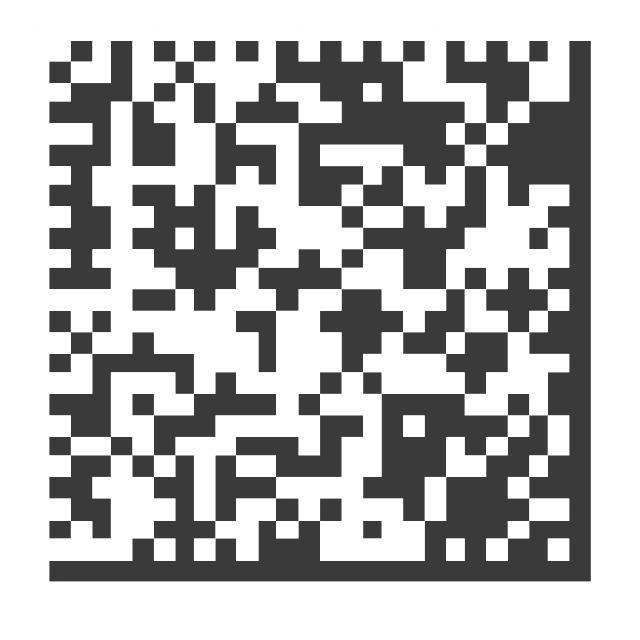Data-Matrix: (37, 28, 600, 584)
